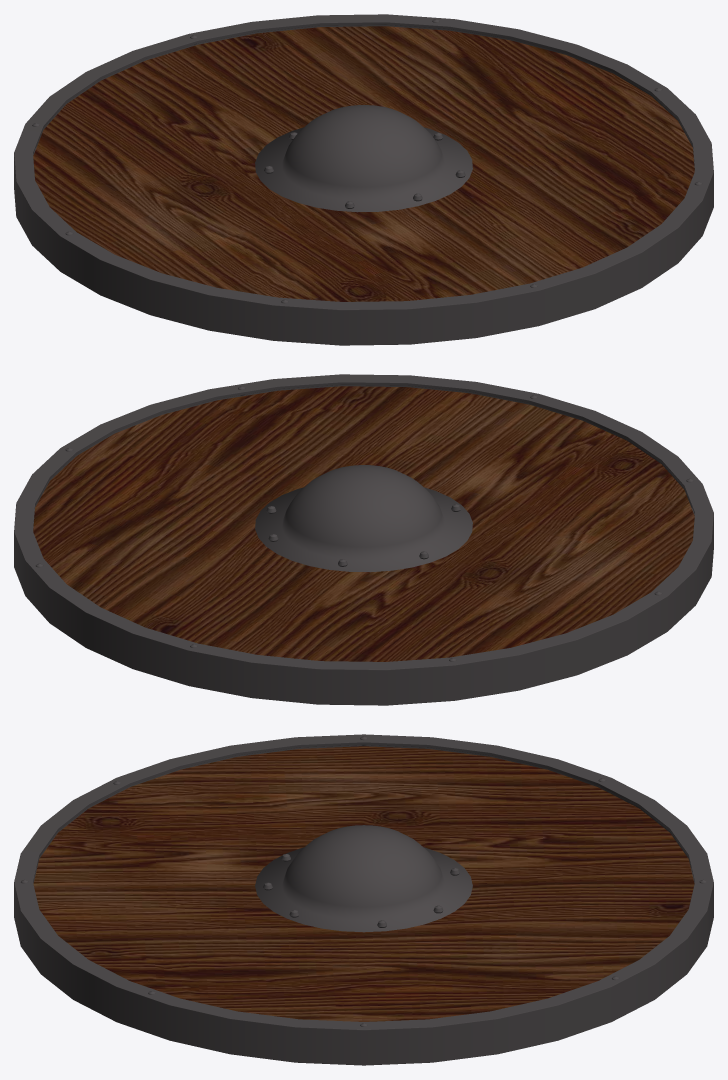
The model's file is Shield.fbx.
3 views of the same model, one above another, from view 1: azimuth 30°, elevation 25°; view 2: azimuth 150°, elevation 25°; view 3: azimuth 270°, elevation 25° (orthographic).
Parts seen in each view (by area): view 1: Wood, Rim; view 2: Wood, Rim; view 3: Wood, Rim.
Part boxes in pixels (x1=…): Wood: x1=33, y1=26, x2=694, y2=301; Rim: x1=14, y1=14, x2=713, y2=345; Wood: x1=33, y1=386, x2=694, y2=661; Rim: x1=14, y1=374, x2=713, y2=705; Wood: x1=33, y1=746, x2=694, y2=1021; Rim: x1=14, y1=734, x2=713, y2=1065.
Bounding box in the file's own units: 423 × 83.96 × 423.
